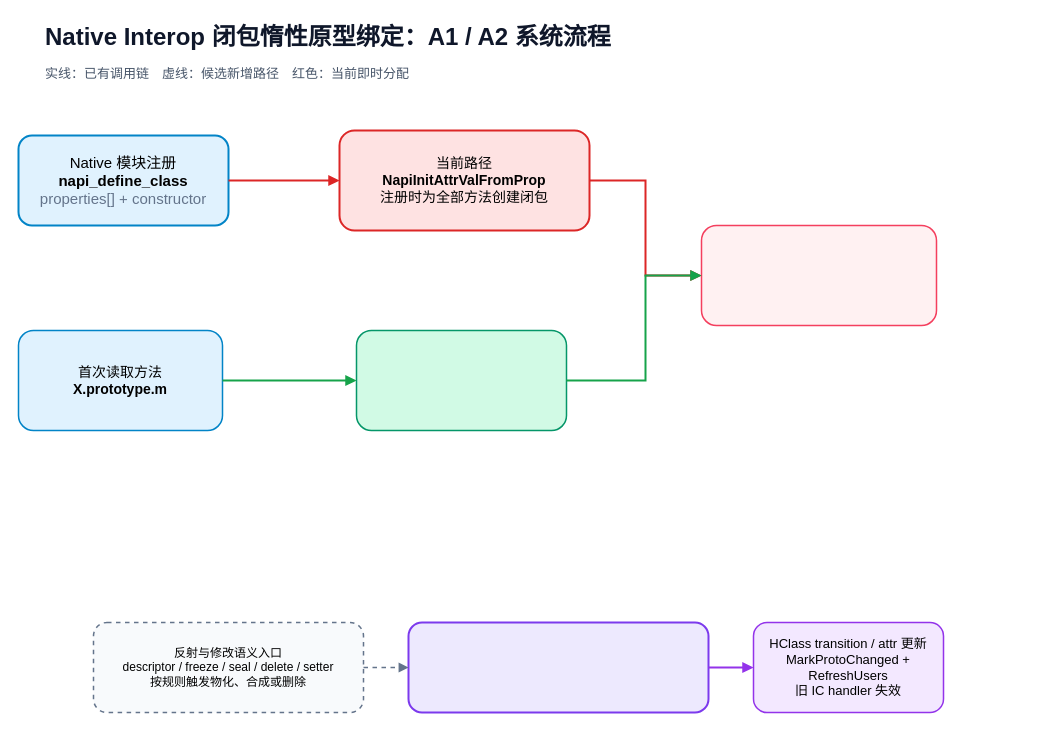
Some shapes in this 1060 by 730 pixel diagram are drawn without their labels. The centre of each missing label's shape, as x and y in pixels:
"为当前方法创建驻留和绑定 NapiNativeCreateFunction" goes at point (461, 380).
"共同收尾 按普通数据属性写回 prototype 透传 writable / enumerable / configurable" goes at point (558, 667).
"每个方法内存驻留 JSFunction + JSNativePointer + NapiFunctionInfo" goes at point (818, 275).
